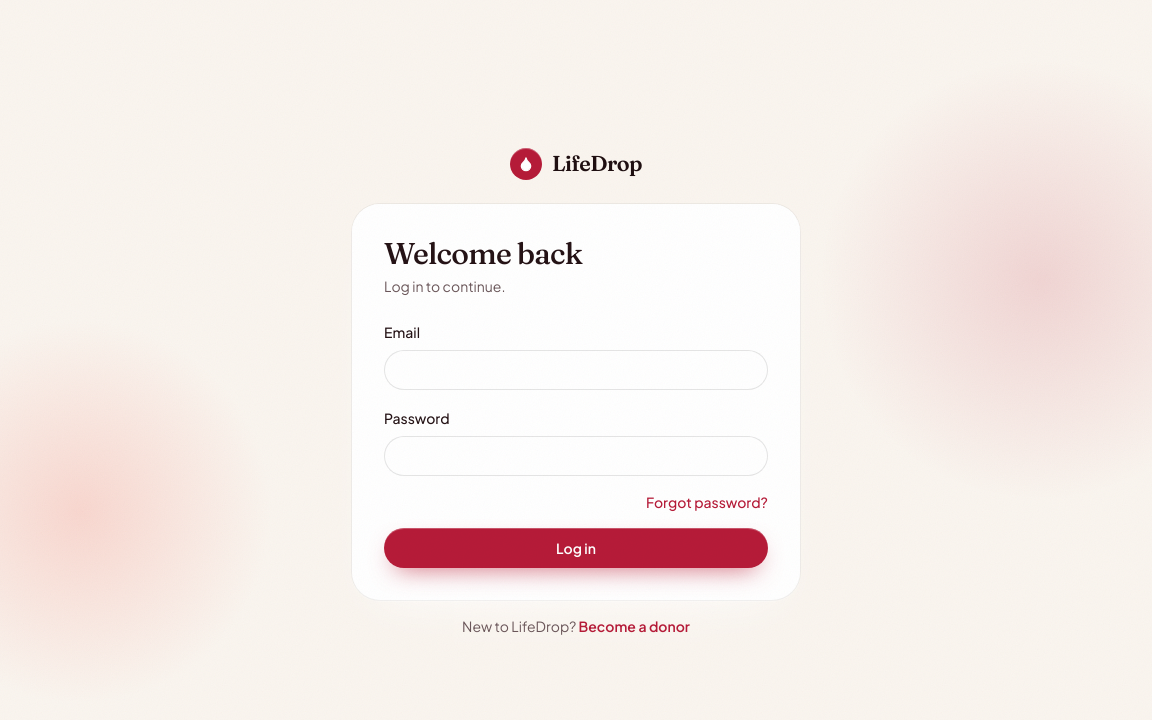
Test: LoginPage › displays the API error for bad credentials
The image size is (1152, 720).
In the field labelled "Email": (576, 370) left=384, top=350, right=768, bottom=390, type "a@b.co"
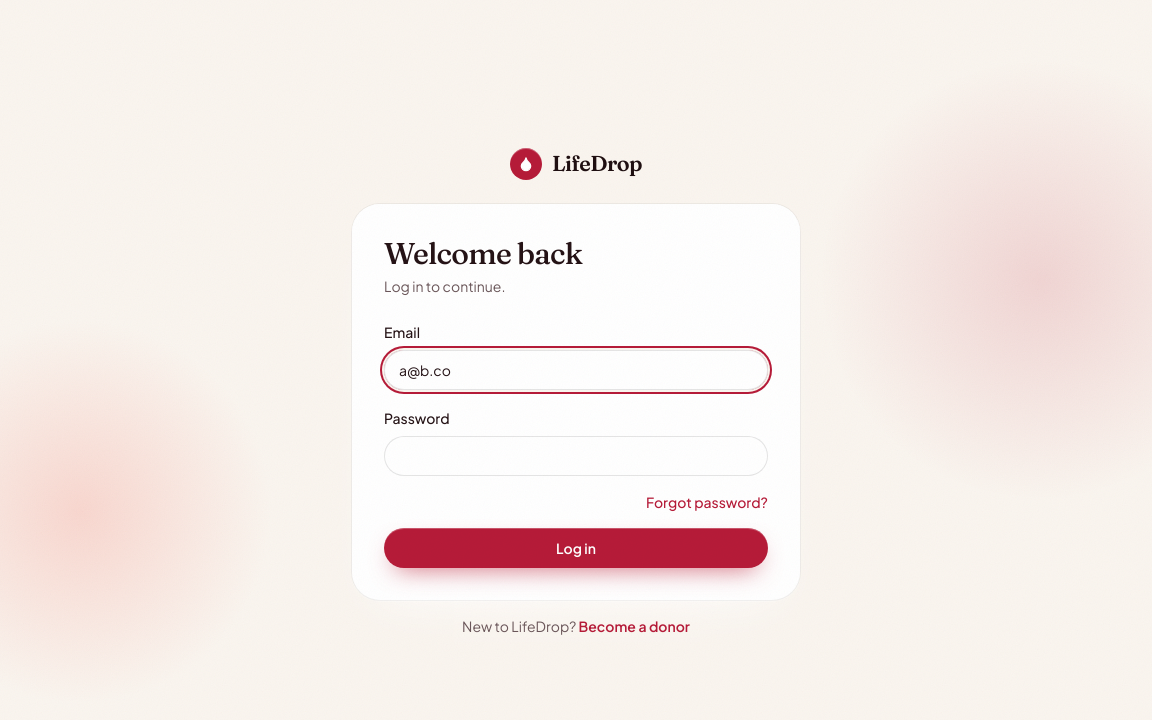
In the password field labelled "Password": (576, 456) left=384, top=436, right=768, bottom=476, type "wrong"
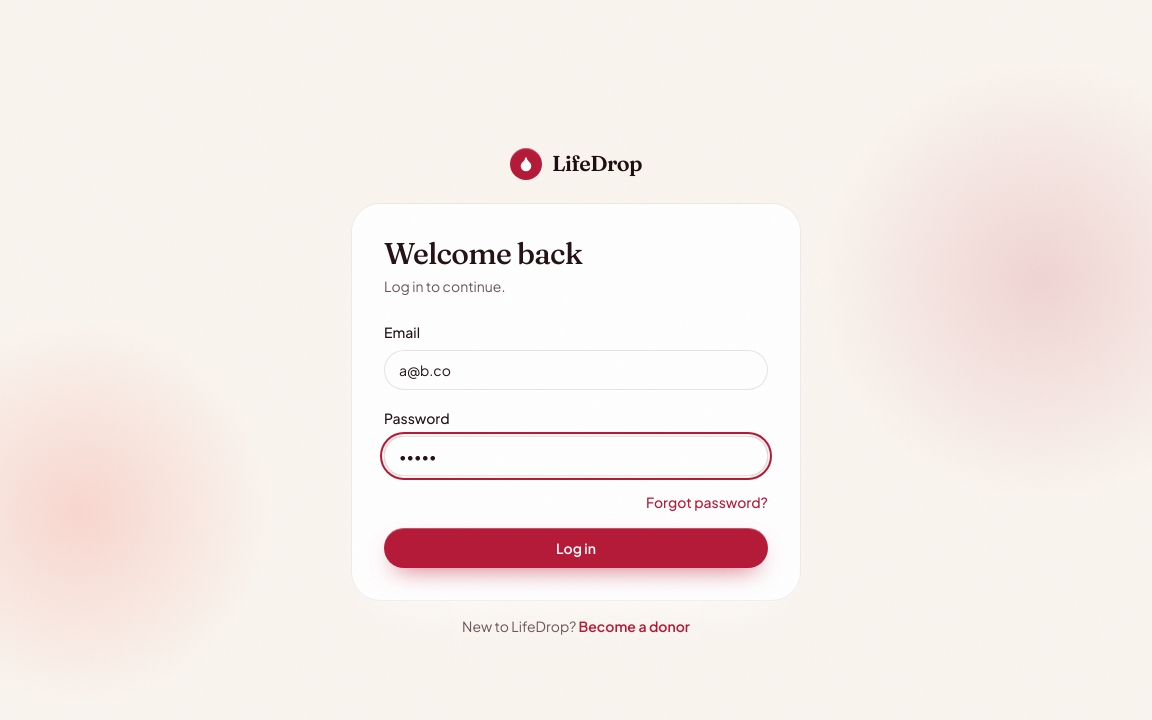
Click the button "Log in": (576, 548) left=384, top=528, right=768, bottom=568
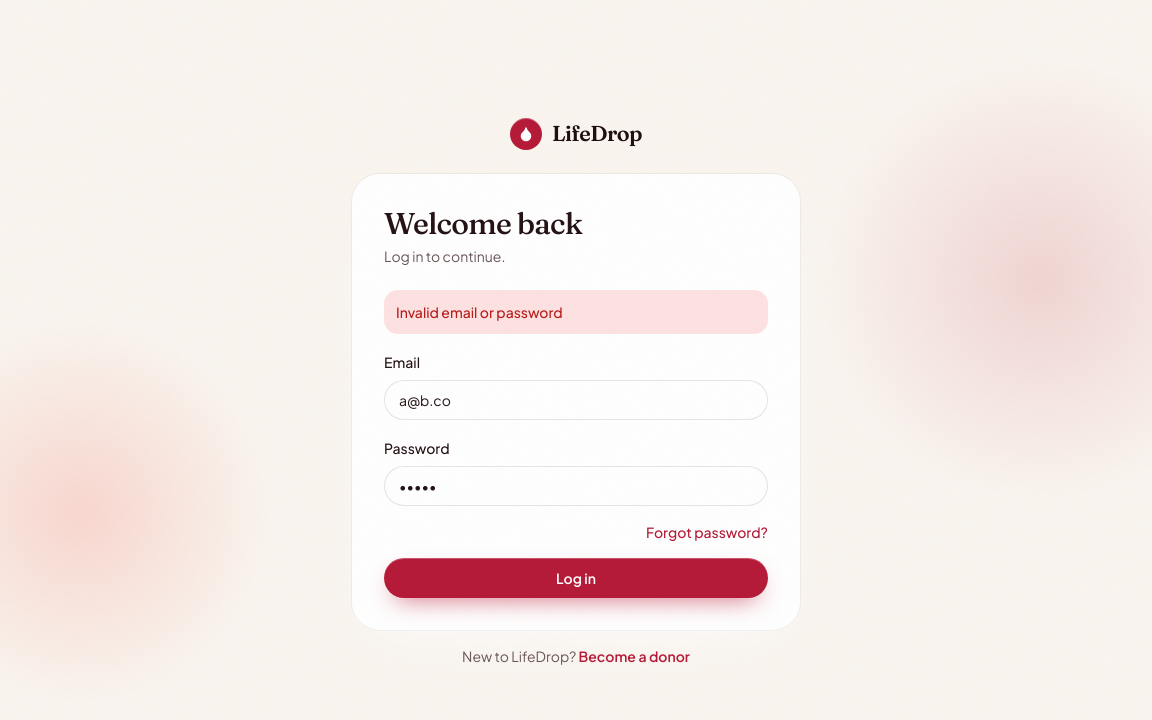
Expected: the message reads "Invalid email or password", left=396, top=303, right=563, bottom=321
